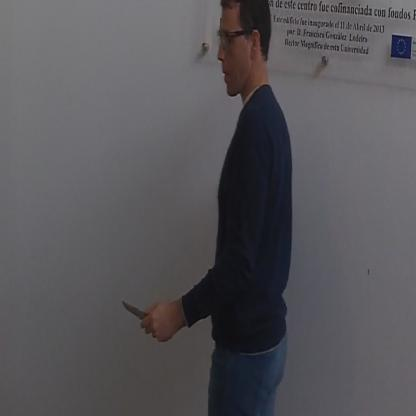knife: (117, 292, 164, 344)
